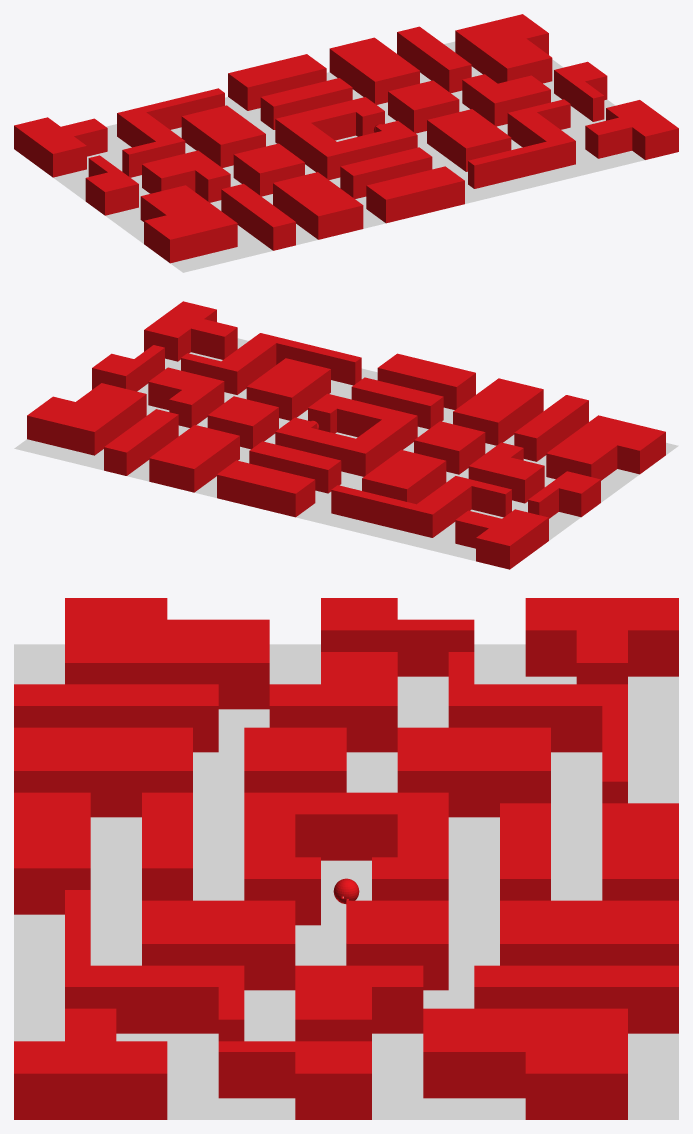
Rendered from fase1.fbx.
3 renders of one model, top to bottom at view 1: azimuth 30°, elevation 25°; view 2: azimuth 150°, elevation 25°; view 3: azimuth 270°, elevation 25°, orthographic. The views are drawn at different scales.
Visible parts, largest first — view 1: Plane.001, Cube.005, Cube.009, Cube.018, Cube.004, Cube.020, Cube.024, Cube.026, Cube.014, Cube.033, Cube.012, Cube.019 (+14 smaller); view 2: Plane.001, Cube.005, Cube.020, Cube.004, Cube.018, Cube.009, Cube.012, Cube.026, Cube.008, Cube.014, Cube.024, Cube.006 (+13 smaller); view 3: Plane.001, Cube.005, Cube.004, Cube.018, Cube.014, Cube.009, Cube.024, Cube.026, Cube.020, Cube.019, Cube.012, Cube.006 (+14 smaller).
Part boxes in pixels (x1,y1,x2,y2): Plane.001: [53, 41, 644, 272]; Cube.005: [275, 97, 417, 179]; Cube.009: [468, 99, 575, 188]; Cube.018: [140, 185, 237, 263]; Cube.004: [455, 14, 552, 83]; Cube.020: [117, 88, 224, 177]; Cube.024: [273, 172, 363, 239]; Cube.026: [14, 117, 107, 177]; Cube.014: [585, 100, 678, 159]; Cube.033: [366, 166, 464, 223]; Cube.012: [329, 37, 419, 104]; Cube.019: [181, 105, 265, 167]; Plane.001: [14, 338, 678, 561]; Cube.005: [275, 393, 417, 476]; Cube.020: [331, 476, 511, 537]; Cube.004: [27, 383, 146, 455]; Cube.018: [546, 415, 665, 480]; Cube.009: [181, 333, 361, 394]; Cube.012: [149, 425, 239, 492]; Cube.026: [455, 509, 548, 569]; Cube.008: [217, 460, 315, 517]; Cube.014: [144, 301, 237, 361]; Cube.024: [453, 378, 543, 445]; Cube.006: [246, 358, 330, 420]; Plane.001: [14, 644, 678, 1119]; Cube.005: [244, 792, 448, 925]; Cube.004: [423, 1008, 627, 1119]; Cube.018: [65, 598, 269, 709]; Cube.014: [14, 1008, 167, 1119]; Cube.009: [65, 890, 244, 1041]; Cube.024: [14, 727, 192, 817]; Cube.026: [525, 598, 678, 684]; Cube.020: [448, 652, 627, 803]; Cube.019: [397, 727, 550, 817]; Cube.012: [500, 900, 678, 965]; Cube.006: [142, 900, 295, 990].
Size of the model in its own units: 4400 by 200 by 2600.
